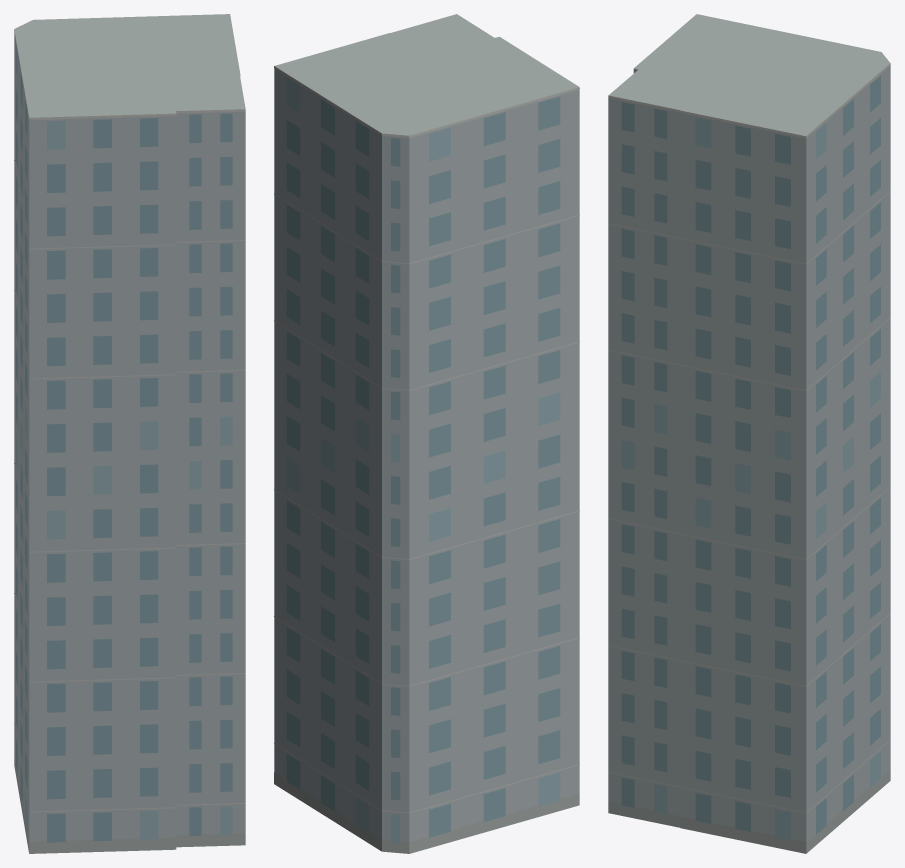
File: survey-upis-32521727.glb
3 views of the same model, side by side, from view 1: azimuth 30°, elevation 25°; view 2: azimuth 150°, elevation 25°; view 3: azimuth 270°, elevation 25° (orthographic). The views are drawn at different scales.
Parts seen in each view (by area): view 1: survey-upis-32521727.tmp; view 2: survey-upis-32521727.tmp; view 3: survey-upis-32521727.tmp.
Part boxes in pixels (x1,y1,x2,y2): survey-upis-32521727.tmp: (14,14,245,853); survey-upis-32521727.tmp: (274,14,579,853); survey-upis-32521727.tmp: (608,14,890,853).
Size of the model in its own units: 27.38 by 74.85 by 26.7.
